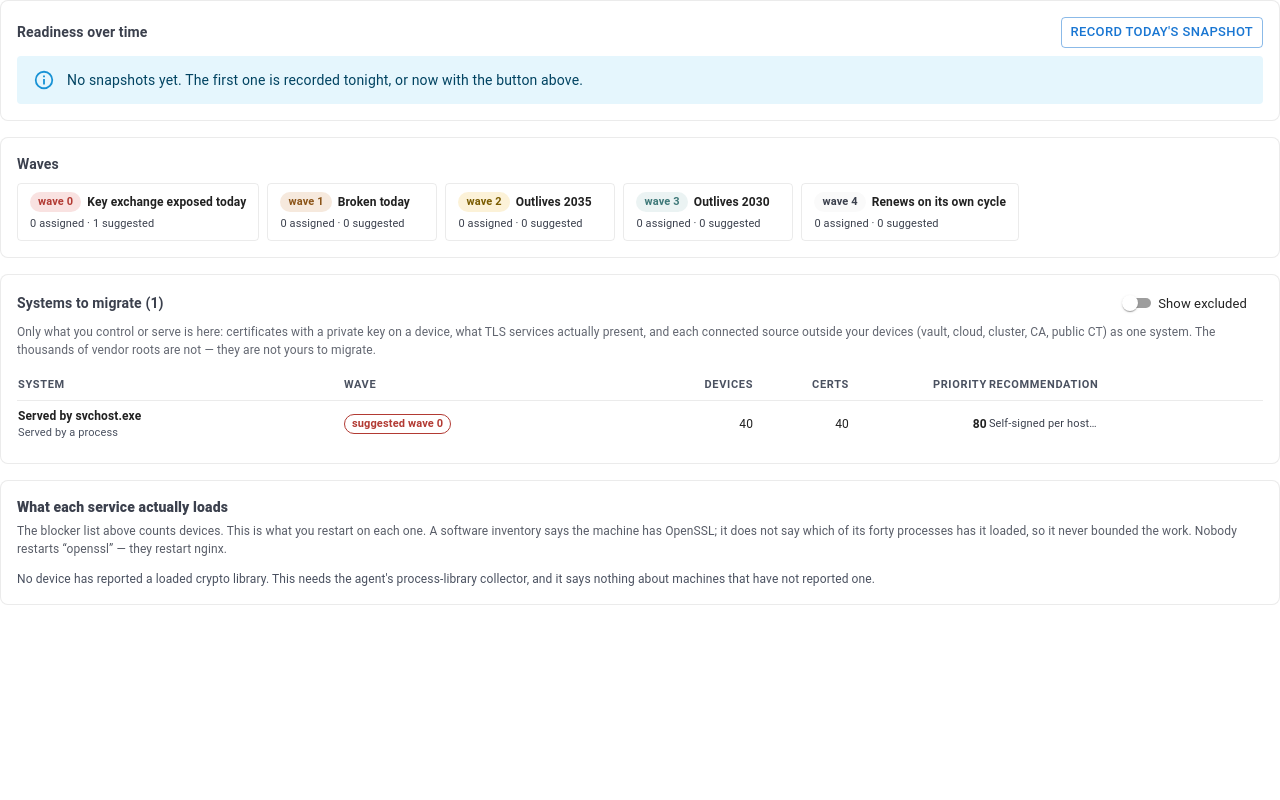
Test: CdpRoadmapPanel › lista los sistemas por prioridad con su ola sugerida y abre el detalle con el desglose
Expected: the text "suggested wave 0" is shown, [345, 416, 450, 432]
Click the button with aria-label "Open Served by svchost.exe" at (80, 416), box [18, 409, 141, 423]
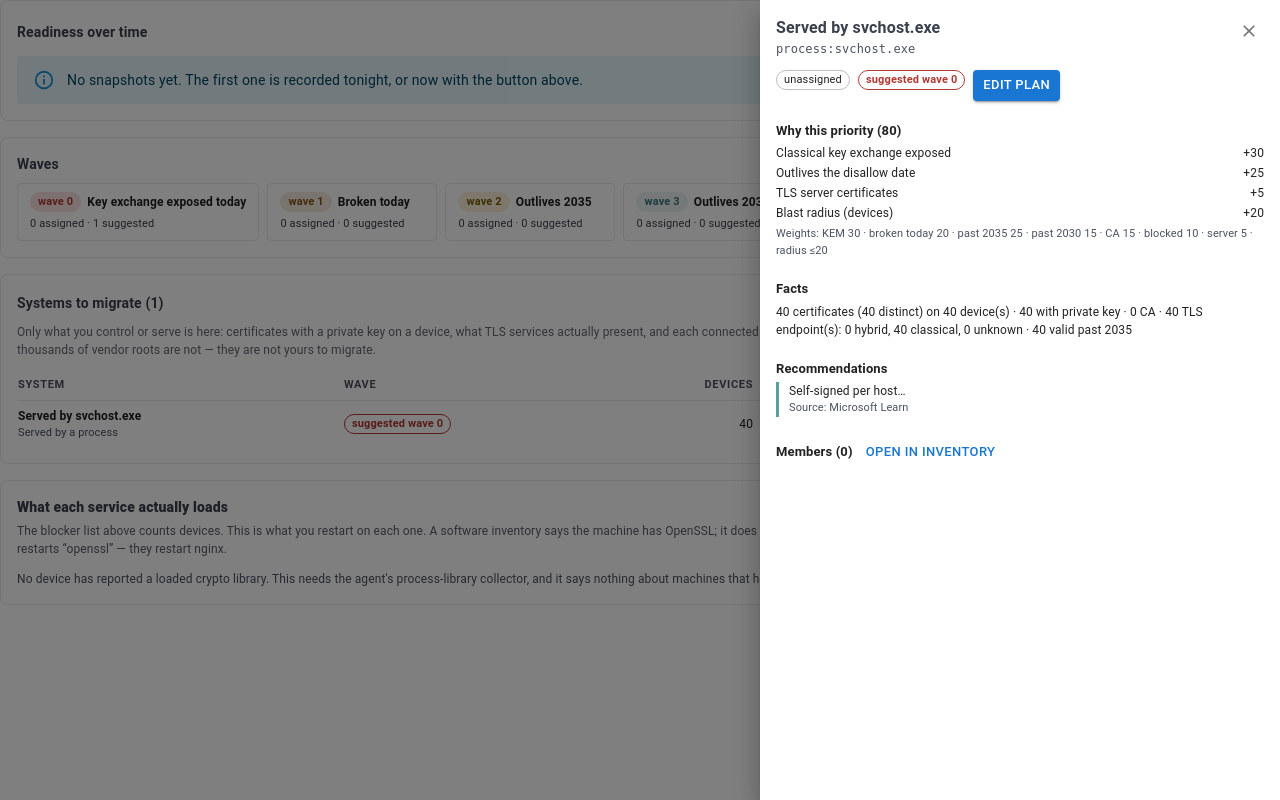
Now the text "Why this priority (80)" is shown, box [776, 123, 902, 138]
Now the text "Classical key exchange exposed" is shown, box [776, 144, 951, 162]
Now the text "Source: Microsoft Learn" is shown, box [789, 401, 908, 414]
